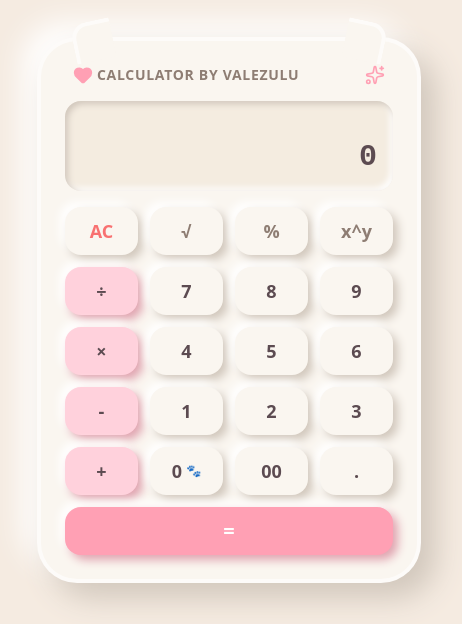
Scenario: Calculator Frontend UI & Basic Interaction › clears display when AC button is pressed
Click the button "5".
click(272, 351)  # box [235, 327, 308, 375]
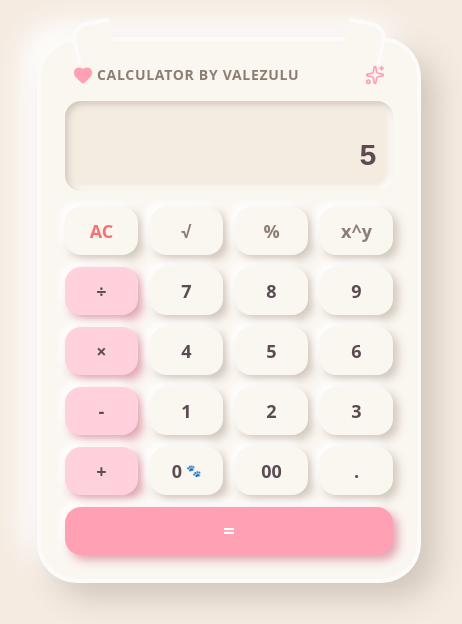
Expected: the text "5" is shown, [359, 140, 377, 174]
Click the button "AC".
click(102, 231)  # box [65, 207, 138, 255]
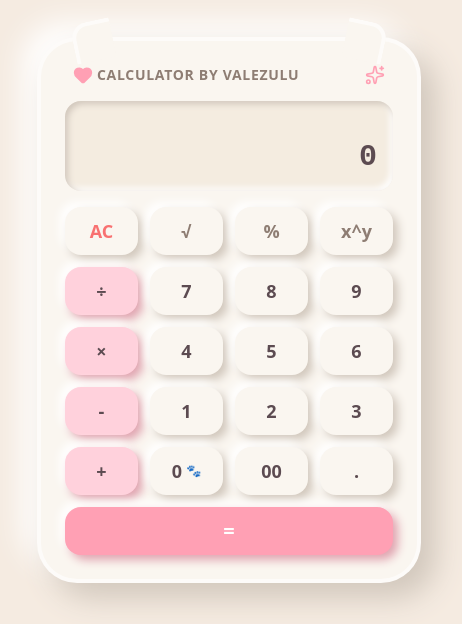
Expected: the 1st text "0" is shown, [359, 140, 377, 174]
